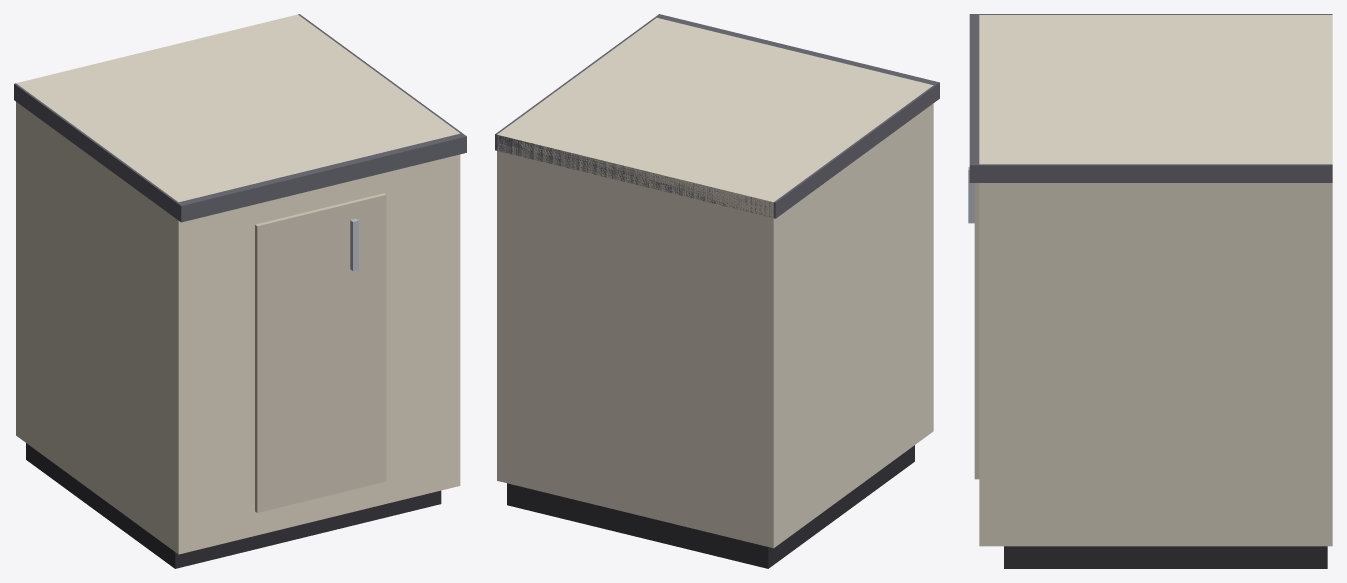
The model's file is counter_corner.fbx.
3 views of the same model, side by side, from view 1: azimuth 30°, elevation 25°; view 2: azimuth 150°, elevation 25°; view 3: azimuth 270°, elevation 25° (orthographic). The views are drawn at different scales.
Visible parts, largest first — view 1: counter_corner; view 2: counter_corner; view 3: counter_corner.
Part boxes in pixels (left/top/right/bottom): counter_corner: left=14, top=14, right=466, bottom=568; counter_corner: left=495, top=14, right=939, bottom=568; counter_corner: left=968, top=14, right=1332, bottom=568.
Bounding box in the file's own units: 0.73 × 0.92 × 0.7425.
